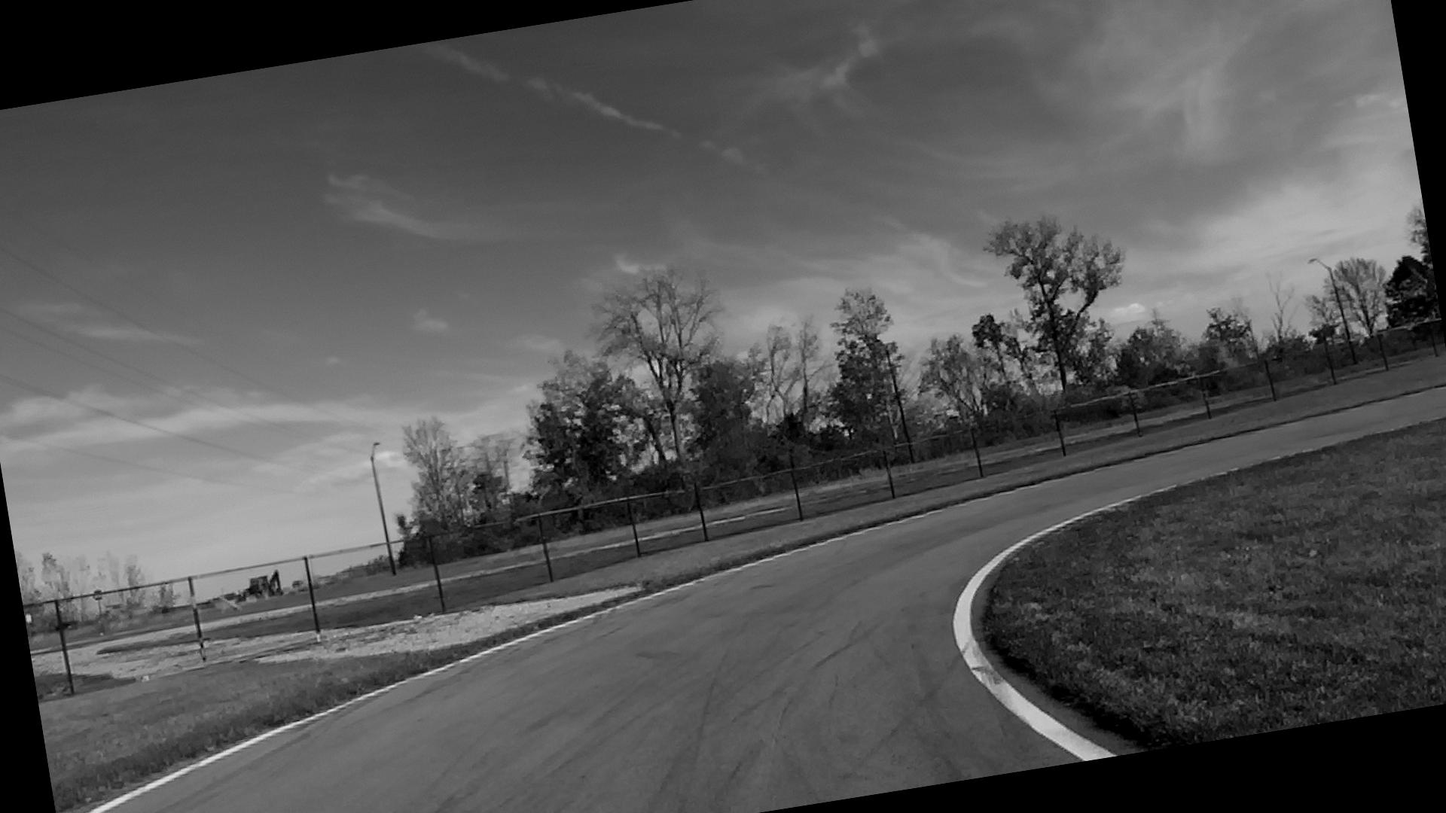white-line: (80, 500, 968, 813), (953, 482, 1182, 761)
